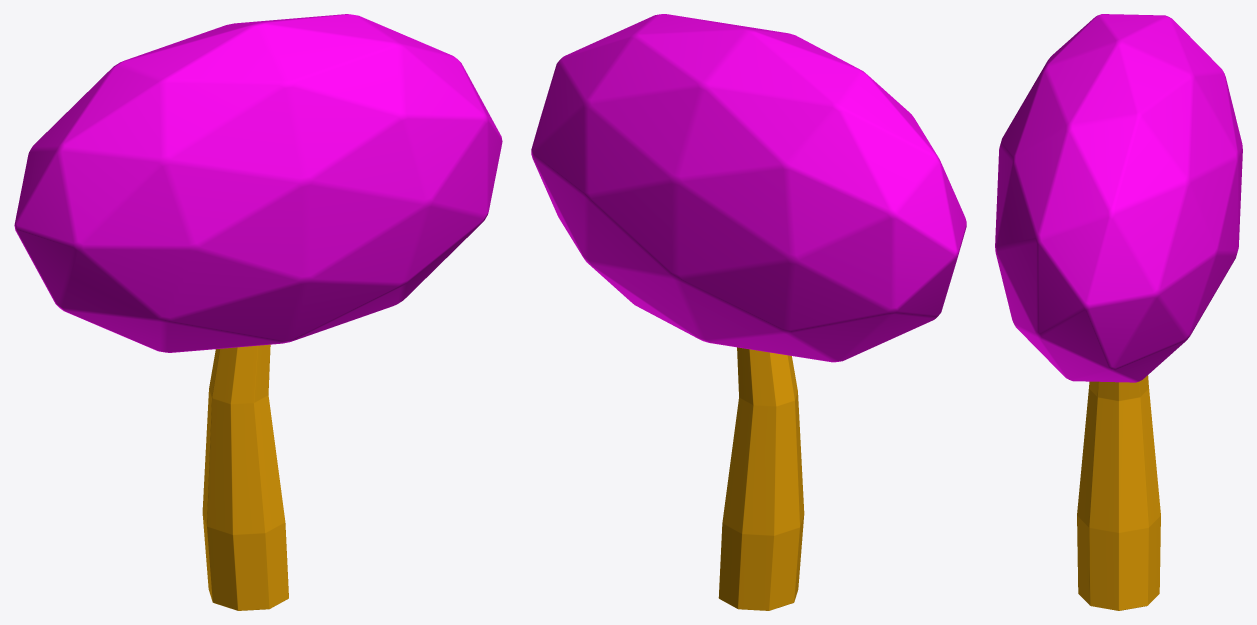
File: Pink Tree.fbx
The picture shows the model from 3 angles, left to right: view 1: azimuth 30°, elevation 25°; view 2: azimuth 150°, elevation 25°; view 3: azimuth 270°, elevation 25°; orthographic projection. The views are drawn at different scales.
Parts seen in each view (by area): view 1: pPlatonic2, pCylinder3; view 2: pPlatonic2, pCylinder3; view 3: pPlatonic2, pCylinder3.
Boxes of the visible parts, x1=… form: pPlatonic2: x1=14, y1=14, x2=502, y2=352; pCylinder3: x1=202, y1=344, x2=288, y2=610; pPlatonic2: x1=531, y1=14, x2=966, y2=362; pCylinder3: x1=718, y1=347, x2=804, y2=610; pPlatonic2: x1=995, y1=14, x2=1242, y2=382; pCylinder3: x1=1077, y1=375, x2=1160, y2=610.
Bounding box in the file's own units: 1.72 × 2.06 × 0.8322.
